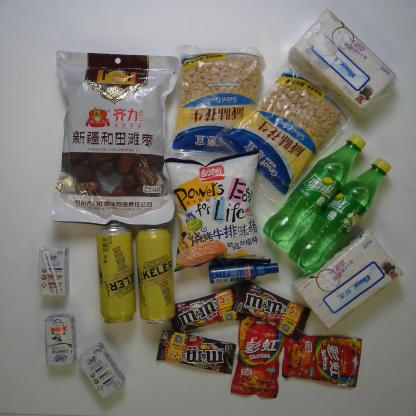Alcohol: (134, 223, 178, 328), (95, 220, 138, 326)
Candy: (227, 312, 290, 402), (280, 329, 366, 392)
Chocolate: (229, 278, 313, 346), (166, 284, 249, 336), (154, 328, 240, 376)
Dried Food: (42, 46, 184, 229)
Dried Fruit: (198, 56, 356, 210), (167, 37, 271, 164)
Drink: (284, 154, 394, 279), (258, 131, 369, 254)
Milk: (75, 340, 127, 400), (35, 243, 73, 299), (42, 312, 78, 367)
Personal Hygiene: (204, 258, 282, 286)
Puffed Food: (152, 144, 275, 277)
Tissue: (283, 6, 409, 118), (287, 224, 407, 333)
